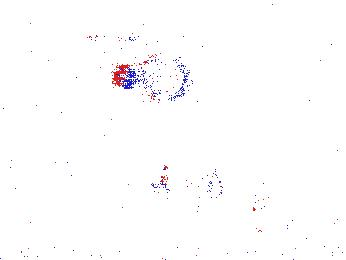flame jellyfish: (114, 51, 195, 103), (149, 162, 223, 213), (246, 174, 311, 228)
